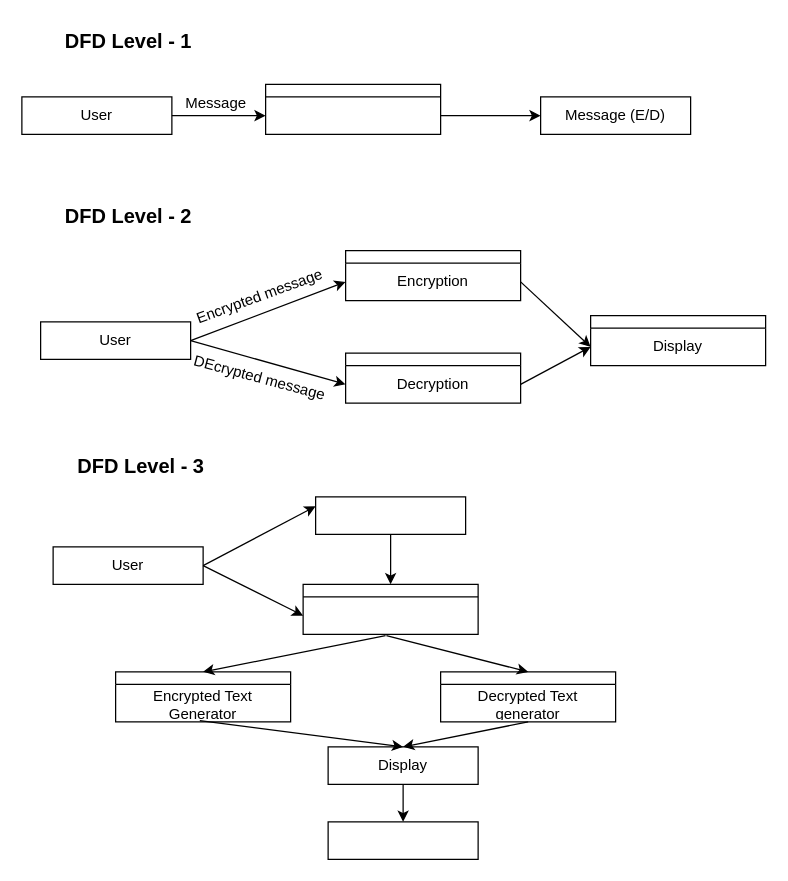
Image size: 788x881. Some labels were removed from this diagram. The shapes that lost their labels are listed below. From the top down, each one's centre as x and y in pixels, then its label:
the point at 352,108: EDAS
the point at 390,515: Copied Test
the point at 390,608: Text Input Process
the point at 402,840: Copy Output
